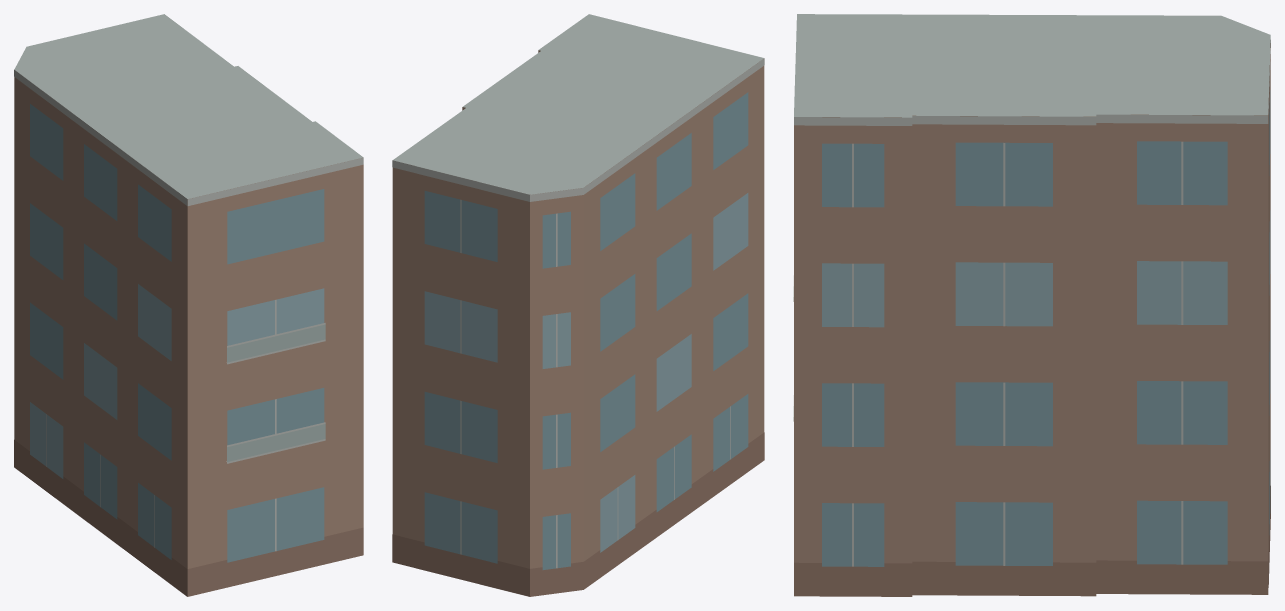
Rendered from survey-upis-32691077.glb.
The picture shows the model from 3 angles, left to right: view 1: azimuth 30°, elevation 25°; view 2: azimuth 150°, elevation 25°; view 3: azimuth 270°, elevation 25°; orthographic projection. The views are drawn at different scales.
Visible parts, largest first — view 1: survey-upis-32691077.tmp; view 2: survey-upis-32691077.tmp; view 3: survey-upis-32691077.tmp.
Part boxes in pixels (x1,y1,x2,y2): survey-upis-32691077.tmp: (14, 14, 363, 596); survey-upis-32691077.tmp: (392, 14, 764, 596); survey-upis-32691077.tmp: (793, 14, 1270, 596).
Bounding box in the file's own units: 6.33 × 13.65 × 12.34.
